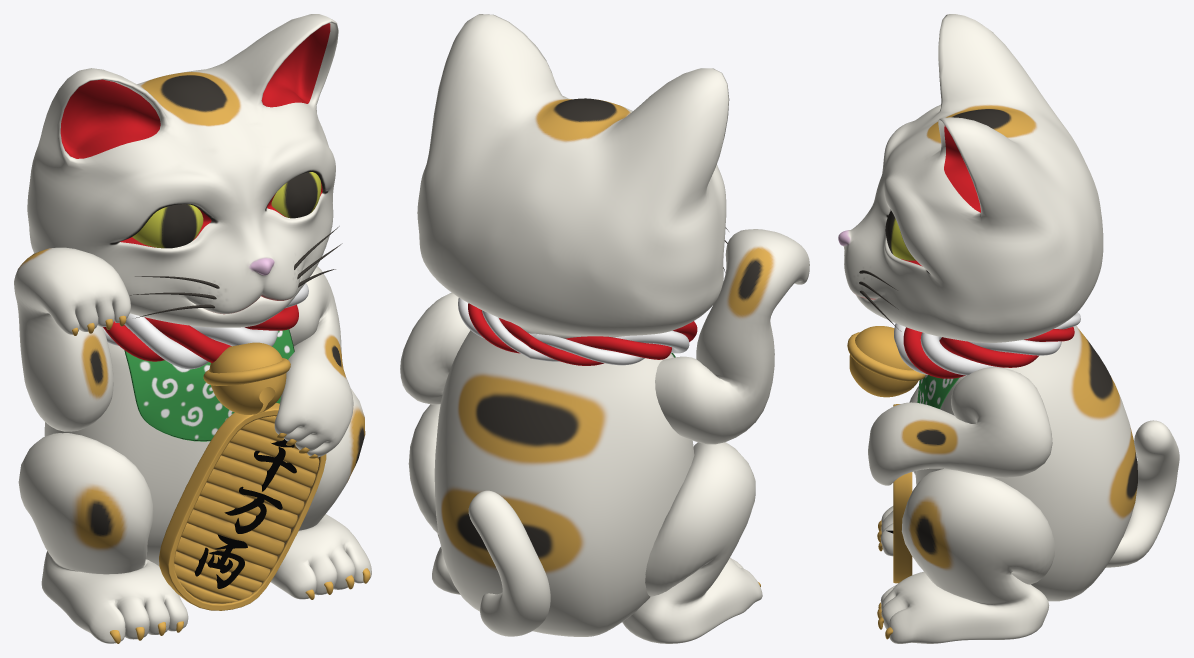
File: manekineko_beckoning_cat.glb
3 views of the same model, side by side, from view 1: azimuth 30°, elevation 25°; view 2: azimuth 150°, elevation 25°; view 3: azimuth 270°, elevation 25° (orthographic). The views are drawn at different scales.
Parts seen in each view (by area): view 1: Body, Leg, Coin.001, Hand_R, Hand_L, Maekake, Ring, Bell, Eye, SenManRyou, Hige; view 2: Body, Leg, Hand_R, Tail, Ring, Hand_L; view 3: Body, Leg, Hand_L, Ring, Tail, Bell, Coin.001, Maekake, Eye.
Part boxes in pixels (x1,y1,x2,y2): Body: [27, 14, 338, 565]; Leg: [18, 389, 371, 643]; Coin.001: [159, 403, 326, 610]; Hand_R: [14, 247, 130, 431]; Hand_L: [274, 266, 353, 458]; Maekake: [124, 329, 294, 441]; Ring: [103, 283, 308, 369]; Bell: [203, 342, 290, 414]; Eye: [132, 172, 321, 248]; SenManRyou: [194, 439, 296, 588]; Hige: [130, 226, 342, 318]; Body: [417, 14, 729, 636]; Leg: [408, 404, 762, 643]; Hand_R: [655, 229, 809, 444]; Tail: [468, 490, 550, 636]; Ring: [458, 298, 697, 365]; Hand_L: [400, 292, 470, 404]; Body: [838, 14, 1137, 601]; Leg: [877, 386, 1055, 643]; Hand_L: [868, 367, 1052, 485]; Ring: [894, 312, 1080, 378]; Tail: [1105, 420, 1179, 567]; Bell: [847, 326, 925, 397]; Coin.001: [893, 404, 912, 583]; Maekake: [917, 374, 959, 408]; Eye: [885, 210, 915, 260].
Bounding box in the file's own units: 0.9636 × 1.44 × 0.8648.
2 materials, 1 textured.
